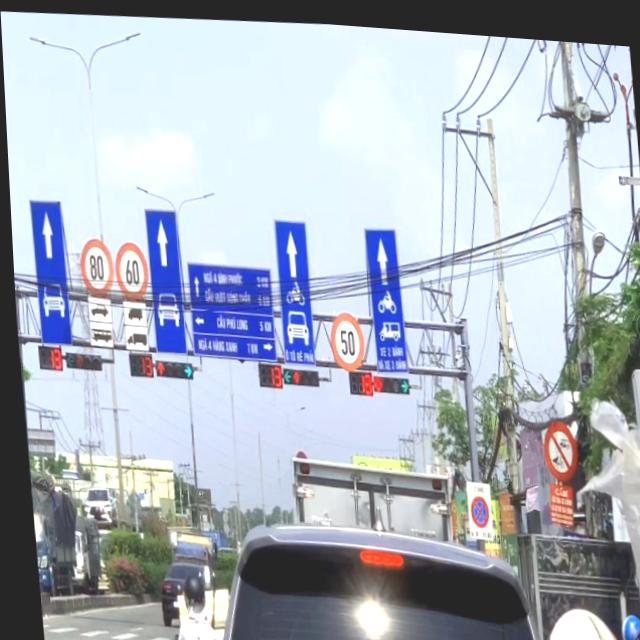Cam dung xe va do xe: (464, 486, 485, 523)
Toc do toi da cho phep: (325, 304, 362, 371), (109, 237, 147, 300), (74, 235, 113, 296)
